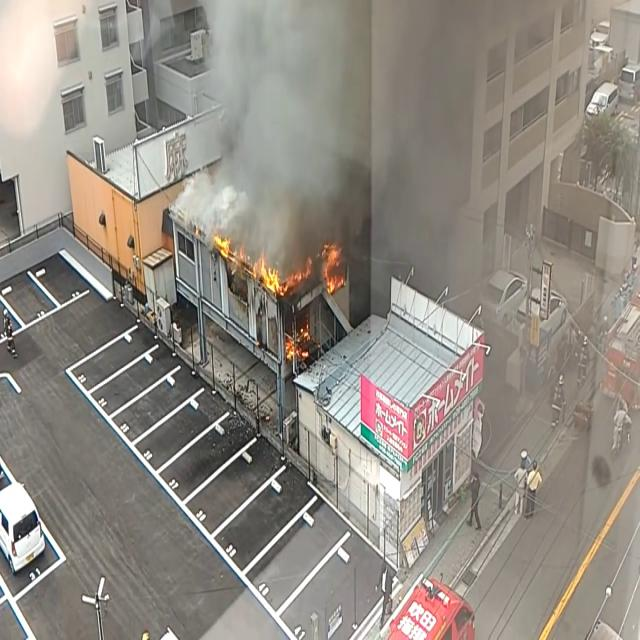Fire: (209, 236, 289, 298), (318, 237, 348, 296)
Smoke: (184, 0, 527, 288)
